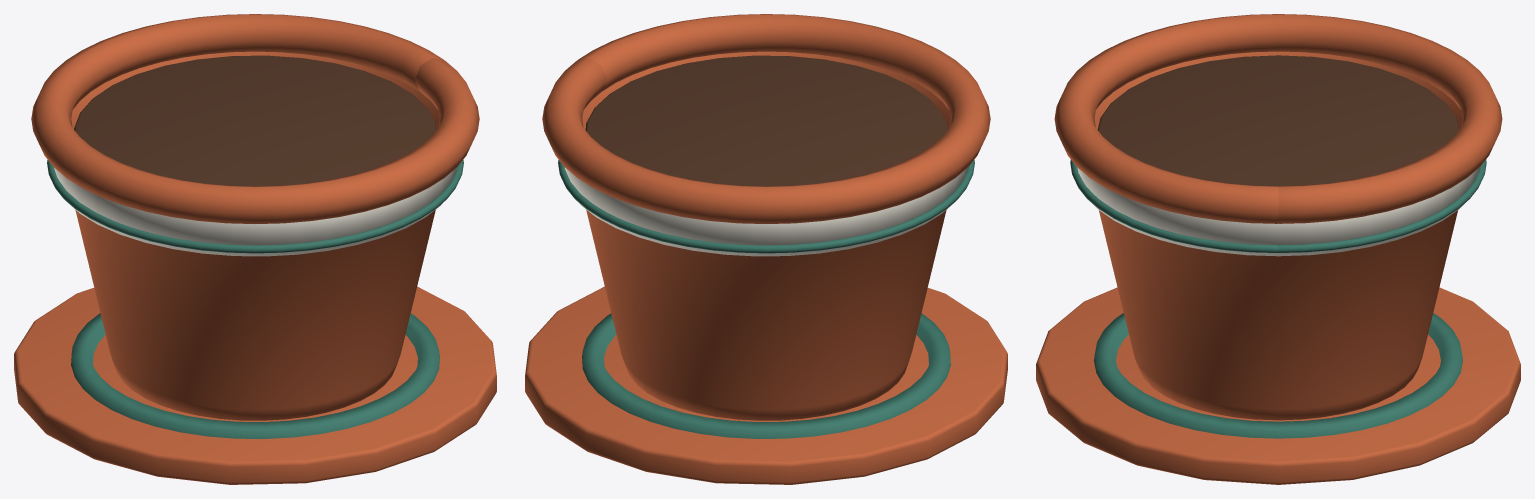
The model's file is nursery_pot.glb.
The picture shows the model from 3 angles, left to right: view 1: azimuth 30°, elevation 25°; view 2: azimuth 150°, elevation 25°; view 3: azimuth 270°, elevation 25°; orthographic projection.
Visible parts, largest first — view 1: Hollow_ceramic_pot, Thick_rim, Saucer.001, Soil_insert, Saucer, Cream_pot_collar, Teal_collar_inlay; view 2: Hollow_ceramic_pot, Thick_rim, Saucer.001, Soil_insert, Saucer, Cream_pot_collar, Teal_collar_inlay; view 3: Hollow_ceramic_pot, Thick_rim, Saucer.001, Soil_insert, Saucer, Cream_pot_collar, Teal_collar_inlay.
Boxes of the visible parts, left/top/right/bottom form: Hollow_ceramic_pot: left=71, top=51, right=439, bottom=420; Thick_rim: left=31, top=14, right=479, bottom=223; Saucer.001: left=14, top=286, right=496, bottom=484; Soil_insert: left=74, top=55, right=436, bottom=186; Saucer: left=71, top=313, right=439, bottom=438; Cream_pot_collar: left=54, top=167, right=457, bottom=256; Teal_collar_inlay: left=47, top=160, right=463, bottom=253; Hollow_ceramic_pot: left=582, top=51, right=950, bottom=420; Thick_rim: left=542, top=14, right=990, bottom=223; Saucer.001: left=525, top=286, right=1007, bottom=484; Soil_insert: left=585, top=55, right=947, bottom=186; Saucer: left=582, top=313, right=950, bottom=438; Cream_pot_collar: left=564, top=167, right=967, bottom=256; Teal_collar_inlay: left=558, top=160, right=974, bottom=253; Hollow_ceramic_pot: left=1094, top=51, right=1462, bottom=420; Thick_rim: left=1054, top=14, right=1502, bottom=223; Saucer.001: left=1036, top=287, right=1520, bottom=484; Soil_insert: left=1097, top=55, right=1459, bottom=186; Saucer: left=1094, top=313, right=1462, bottom=438; Cream_pot_collar: left=1077, top=167, right=1479, bottom=256; Teal_collar_inlay: left=1070, top=159, right=1486, bottom=252.
Bounding box in the file's own units: 0.34 × 0.219 × 0.34.
